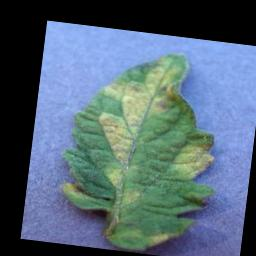Leaf_Mold: (93, 49, 187, 170), (171, 136, 217, 184), (145, 229, 178, 250), (101, 165, 126, 190), (59, 179, 86, 200), (120, 188, 141, 209)
